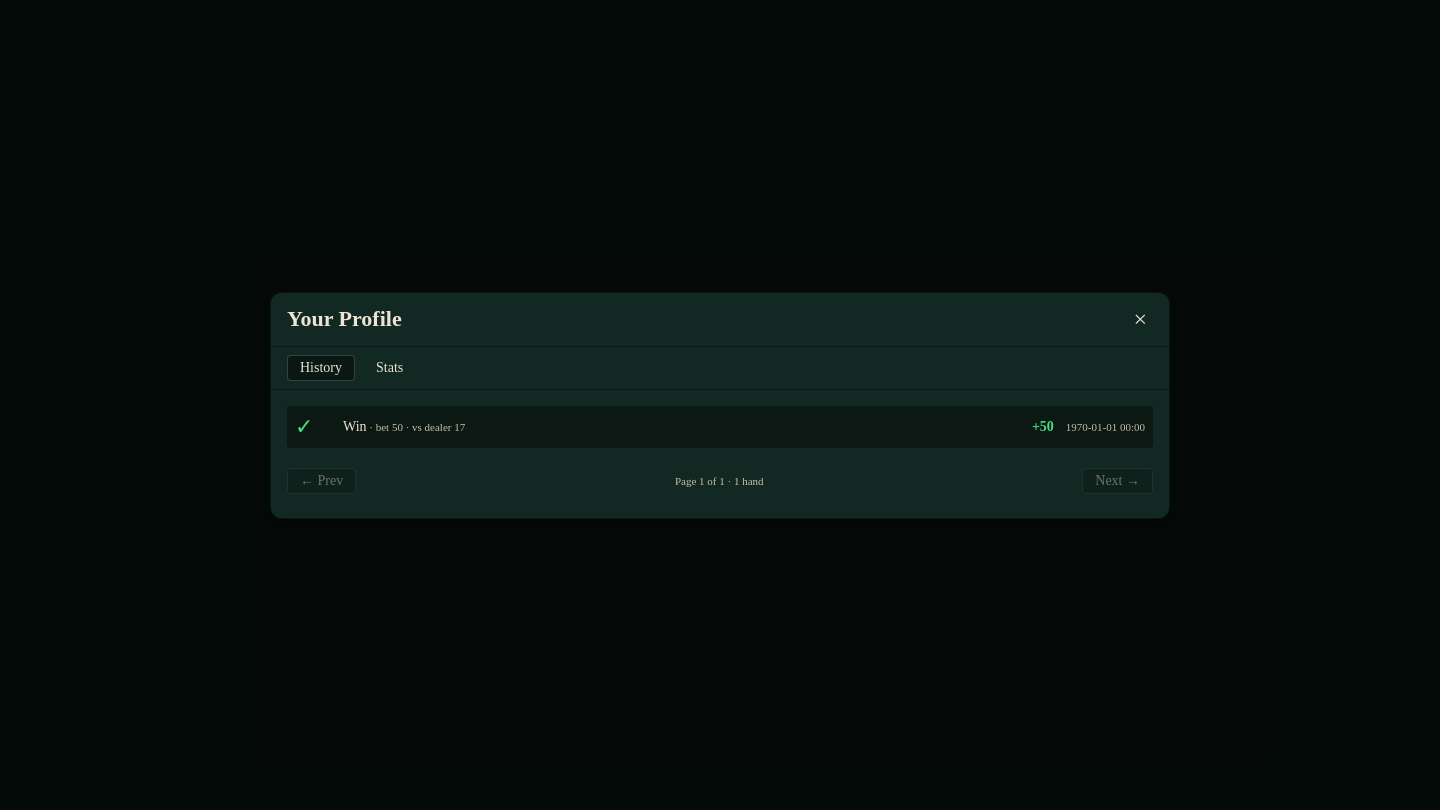
it: <ProfileModal /> › switches to Stats tab and shows headline content
Expected: the heading "Your Profile" is shown, left=287, top=306, right=402, bottom=332
What coordinates should you click on to do the following:
click the tab "Stats"
I would click on:
 (390, 368)
Its box is left=363, top=354, right=416, bottom=380.
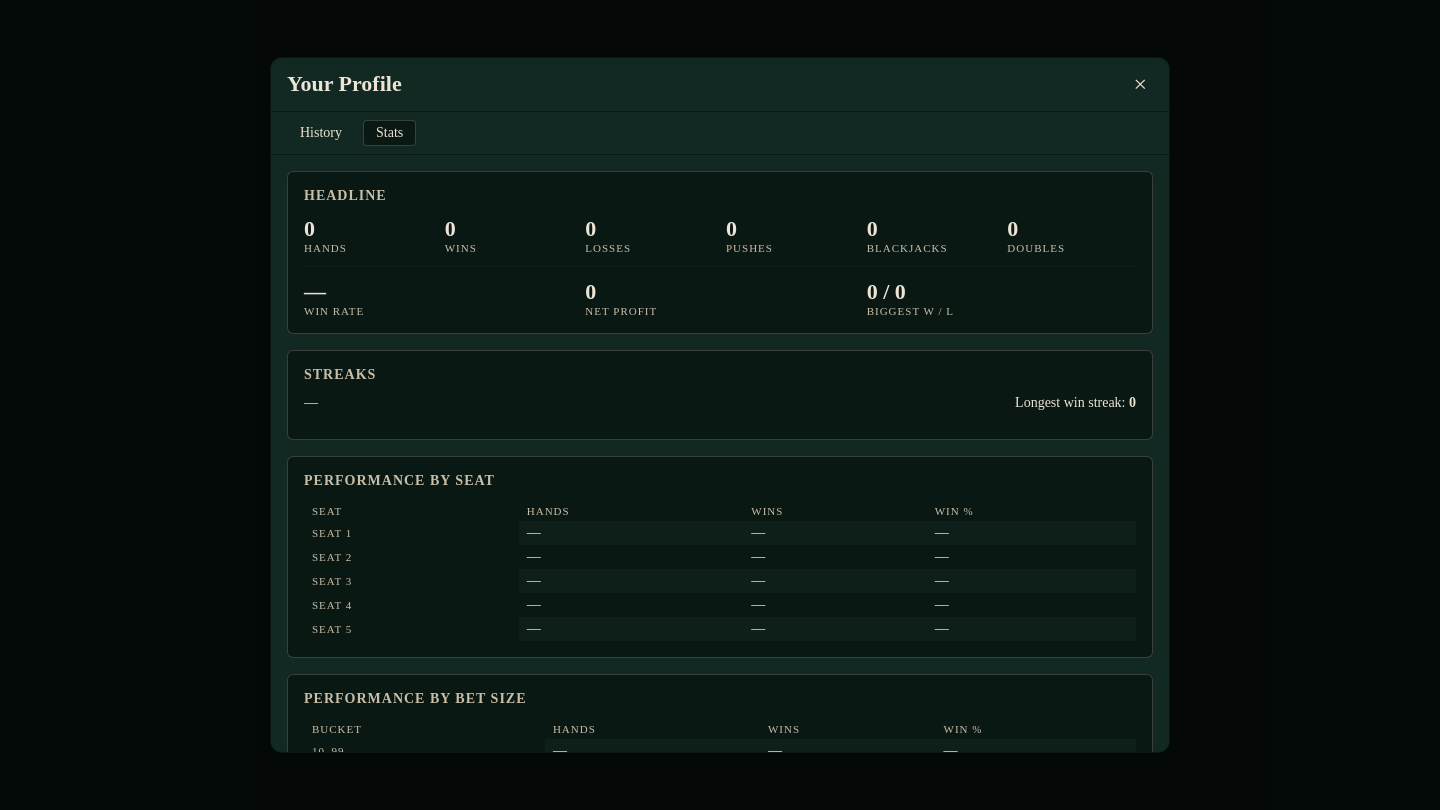
Expected: the heading "Headline" is shown, left=304, top=188, right=387, bottom=203
